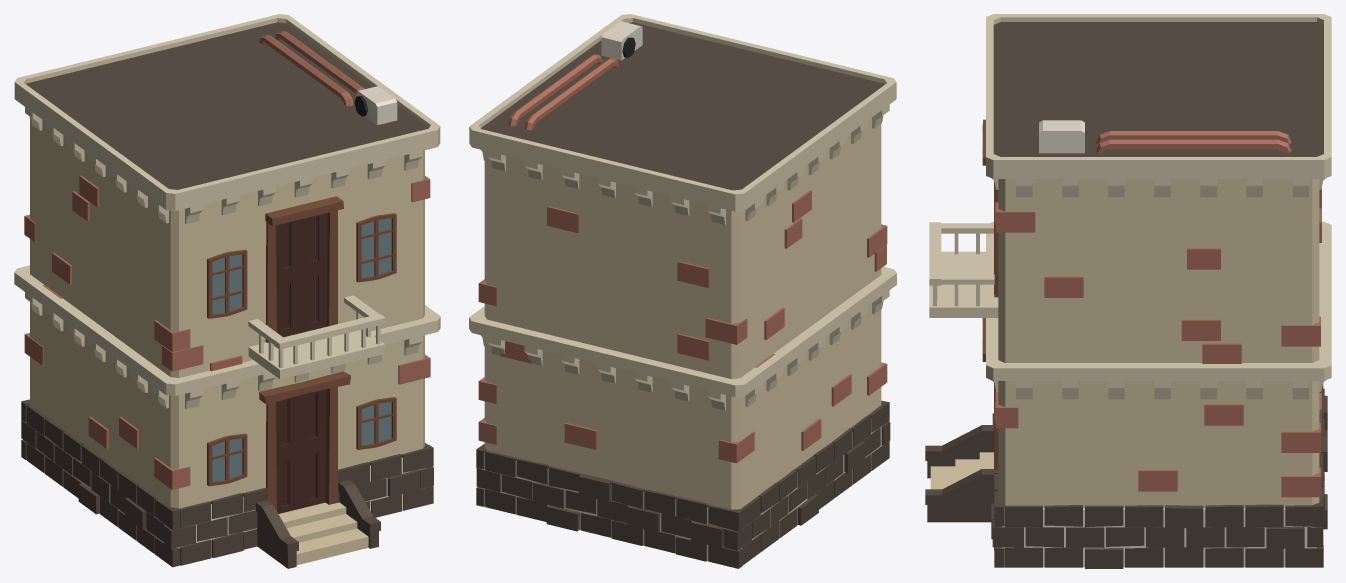
Rendered from cairo-block-balcony.glb.
The picture shows the model from 3 angles, left to right: view 1: azimuth 30°, elevation 25°; view 2: azimuth 150°, elevation 25°; view 3: azimuth 270°, elevation 25°; orthographic projection. The views are drawn at different scales.
Size of the model in its own units: 2.16 by 2.94 by 2.53.
